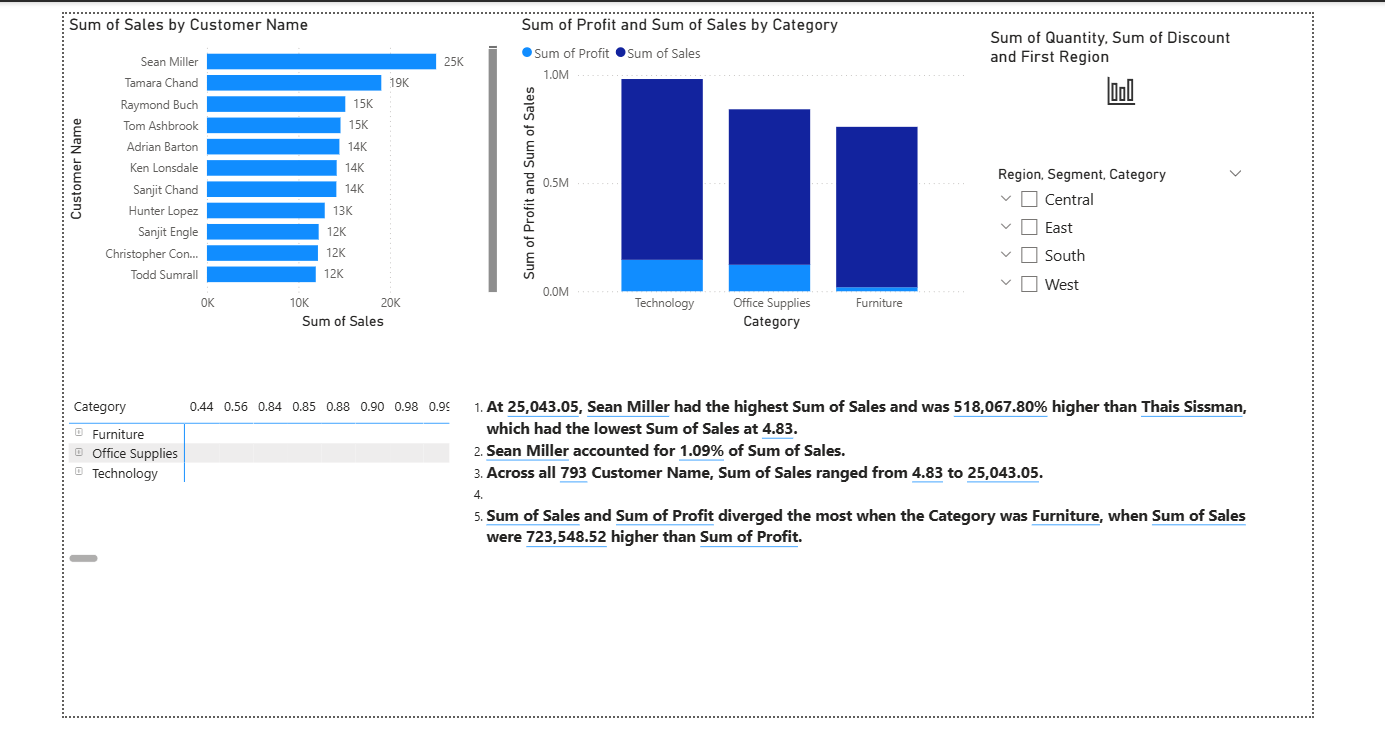

The page's visual inventory and layout, read from the dashboard file:
{"tool":"powerbi","page":{"name":"Page 2","canvas":[1280,720],"ordinal":1},"visuals":[{"type":"columnChart","box":[944.9,14.1,279.5,91],"z":0},{"type":"clusteredBarChart","fields":{"Category":["Sample - Superstore.Customer Name"],"Y":["Sample - Superstore.Sales"]},"box":[0,0,448.7,328.2],"z":1000},{"type":"columnChart","fields":{"Category":["Sample - Superstore.Category"],"Y":["Sample - Superstore.Profit","Sample - Superstore.Sales"]},"box":[464.1,0,465.4,328.2],"z":2000},{"type":"pivotTable","fields":{"Rows":["Sample - Superstore.Category","Sample - Superstore.Sub-Category"],"Columns":["Sample - Superstore.Sales","Sample - Superstore.Profit"]},"box":[0,385.9,400,182.1],"z":3000},{"type":"slicer","fields":{"Values":["Sample - Superstore.Region","Sample - Superstore.Segment","Sample - Superstore.Category"]},"box":[944.9,151.3,275.6,151.3],"z":4000},{"type":"textbox","box":[410.3,385.9,810.3,230.8],"z":5000}]}

Visuals, with their boxes on the page's 1280x720 design canvas (x1, y1, x2, y2). These are canvas units, not pixel positions in the 1385x740 screenshot, which may show the page scaled, cropped or inside an application window:
columnChart: (left=945, top=14, right=1224, bottom=105)
clusteredBarChart - Sample - Superstore.Customer Name x Sample - Superstore.Sales: (left=0, top=0, right=449, bottom=328)
columnChart - Sample - Superstore.Category x Sample - Superstore.Profit: (left=464, top=0, right=930, bottom=328)
pivotTable - Sample - Superstore.Category x Sample - Superstore.Sub-Category: (left=0, top=386, right=400, bottom=568)
slicer - Sample - Superstore.Region x Sample - Superstore.Segment: (left=945, top=151, right=1220, bottom=303)
textbox: (left=410, top=386, right=1221, bottom=617)
